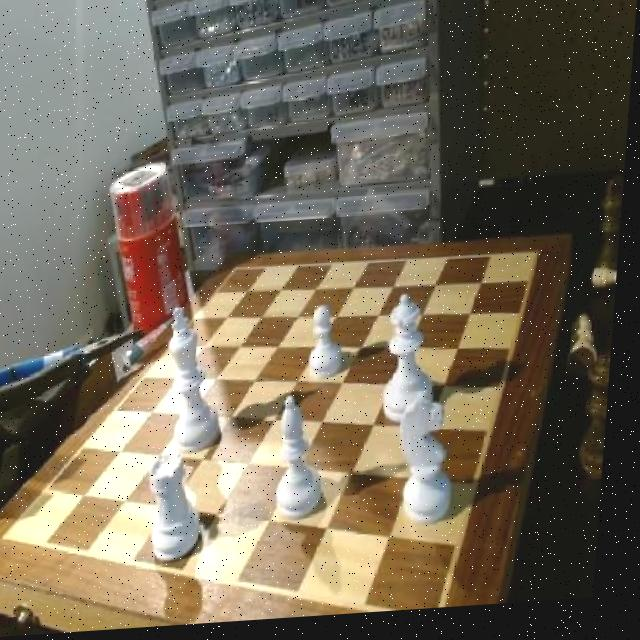black-rook: (274, 396, 336, 528)
white-bishop: (161, 305, 237, 464)
white-king: (396, 396, 469, 541)
white-knight: (310, 307, 350, 393)
white-pawn: (382, 294, 443, 432)
white-queen: (146, 453, 215, 570)
